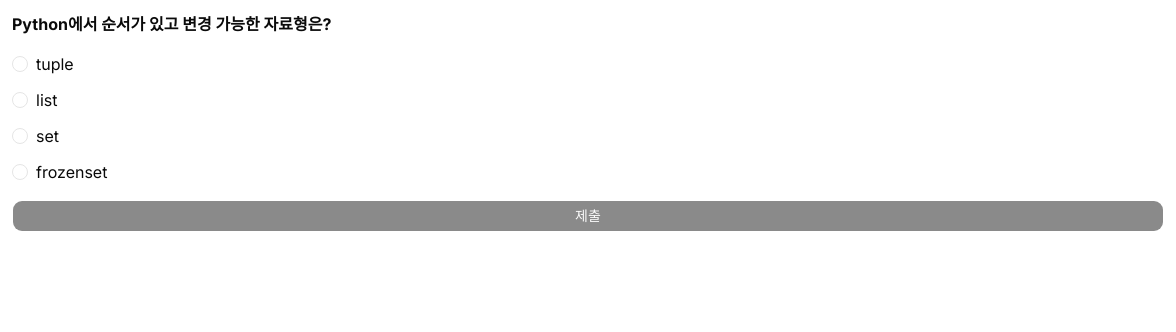
it: QuestionObjective › [버그 수정] answer 필드에 choices와 다른 공백이 섞여도 정답 선택이 정답으로 표시된다
What coordinates should you click on to do the following:
click the radio button named "list" next to "list"
I would click on:
 (20, 100)
Its box is [12,92,28,108].
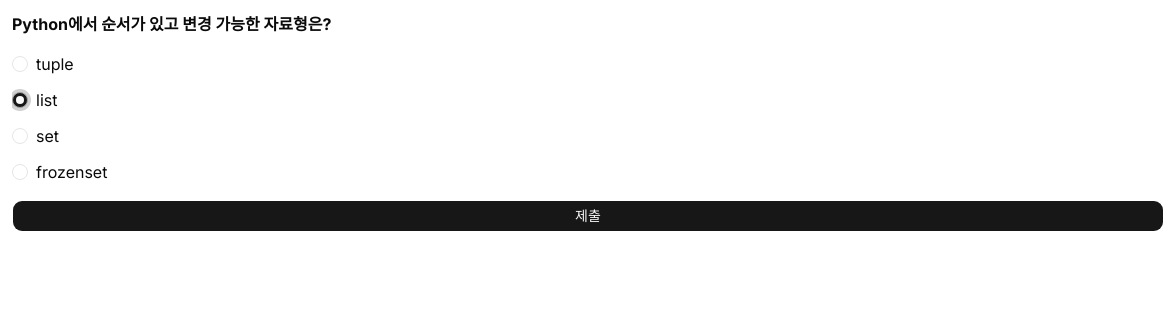
What coordinates should you click on to do the following:
click the button "제출"
I would click on:
 (588, 216)
Its box is [12,200,1164,232].
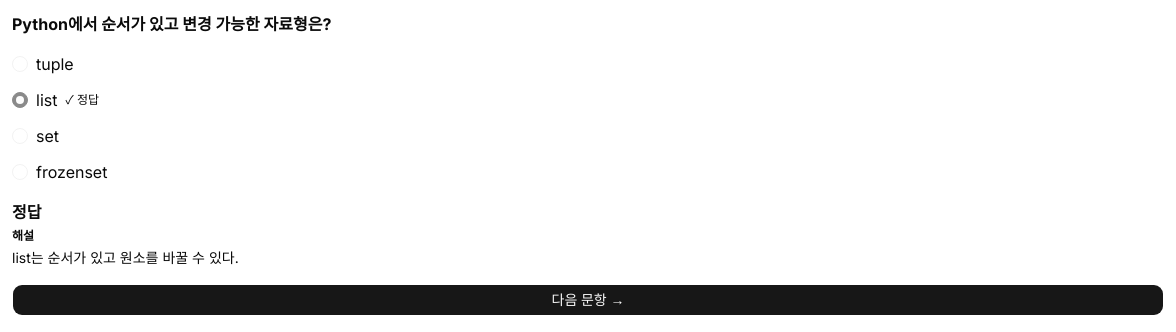
Now the text "정답" is shown, box [12,202,42,222]
